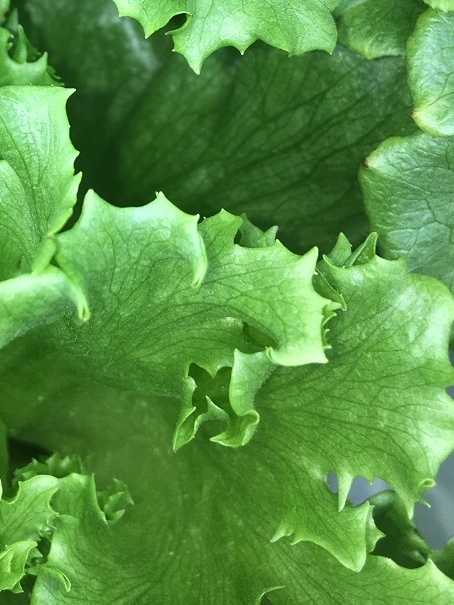tipburn: (406, 105, 424, 123), (358, 156, 375, 172), (361, 46, 378, 62)
